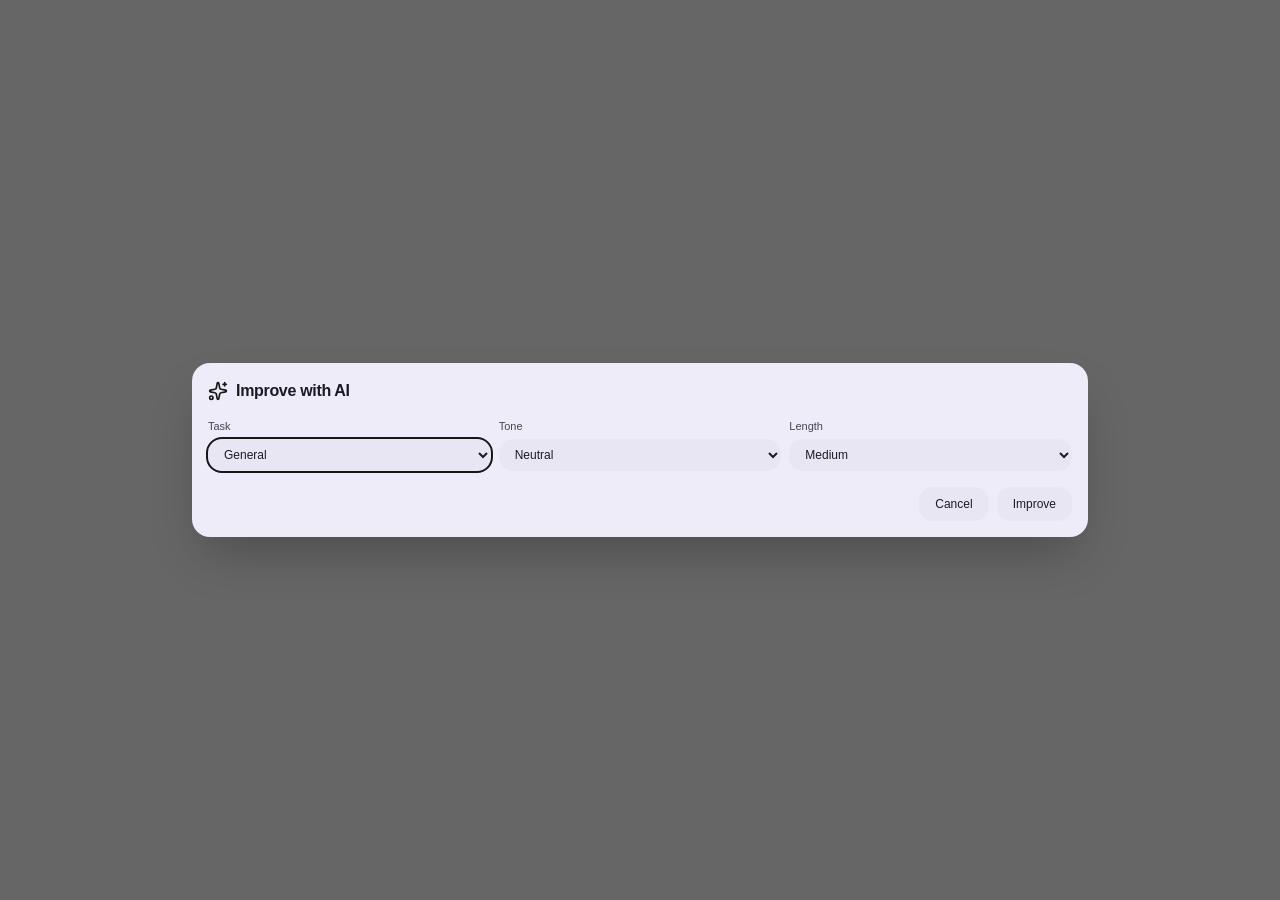
Scenario: ImprovePromptDialog › shows a loading state and disables the button while waiting
Click the button "Improve": (1034, 504) [997,487,1072,521]
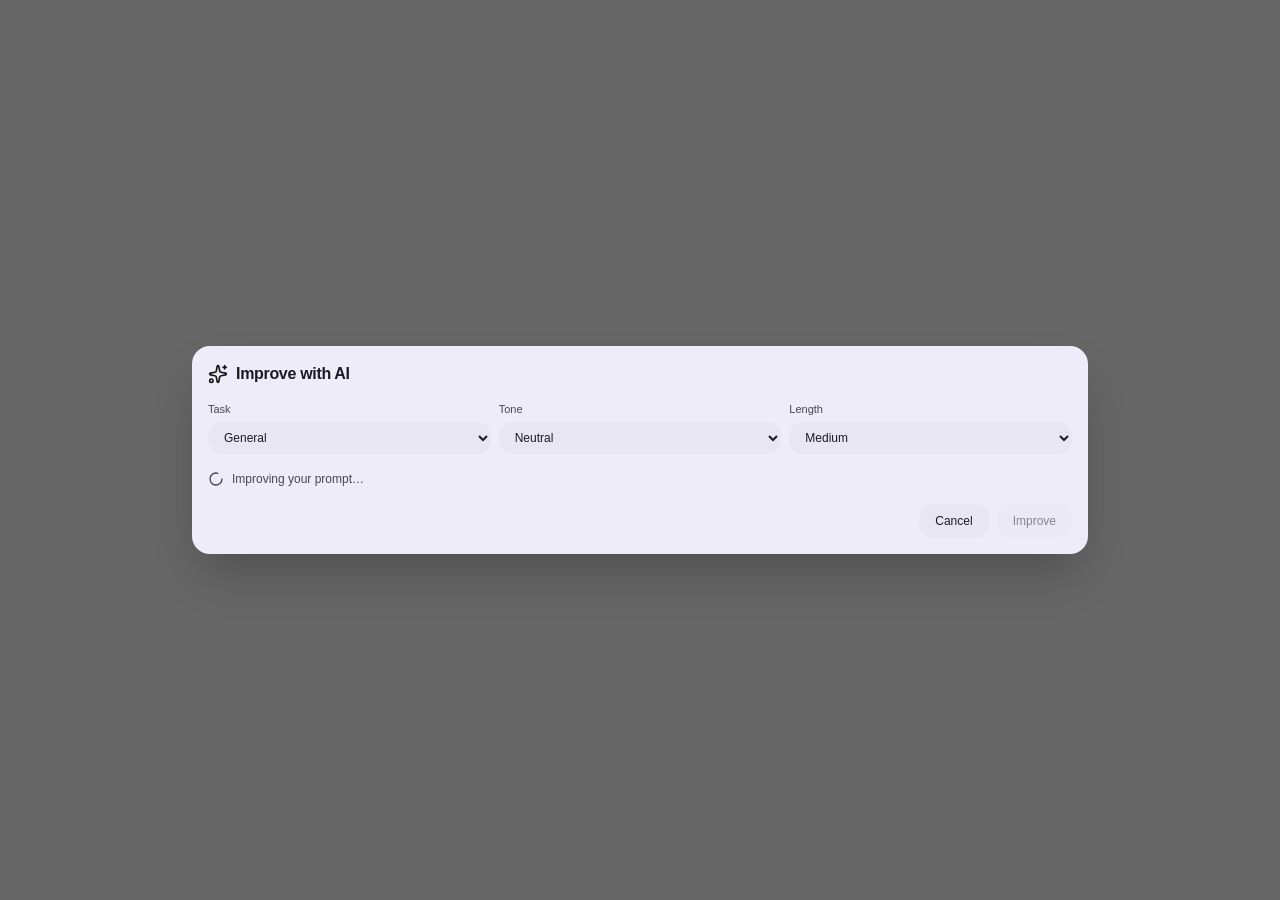
Check: the text "Improving your prompt…" is shown, box [208,471,364,487]
Check: the button "Improve" is disabled, box [997,504,1072,538]
